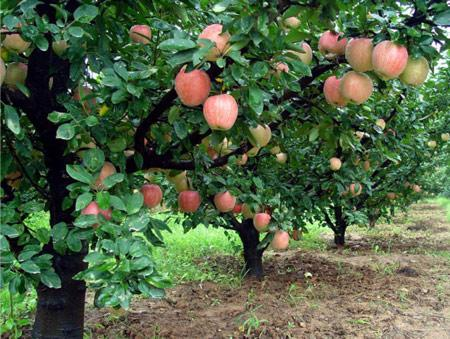apple: (175, 66, 211, 107), (371, 40, 408, 78), (203, 93, 239, 130), (339, 68, 374, 104), (198, 22, 233, 57), (344, 37, 375, 71), (399, 54, 429, 87), (318, 29, 346, 58), (245, 120, 271, 148), (324, 75, 347, 106), (80, 200, 112, 219), (140, 183, 163, 207), (215, 191, 235, 212), (179, 190, 199, 211), (271, 230, 289, 250), (253, 212, 271, 231)
